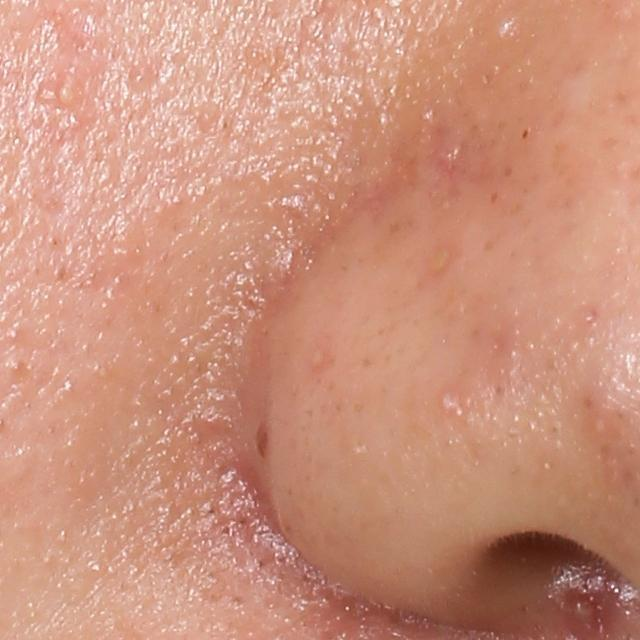pustule: (36, 63, 92, 119)
